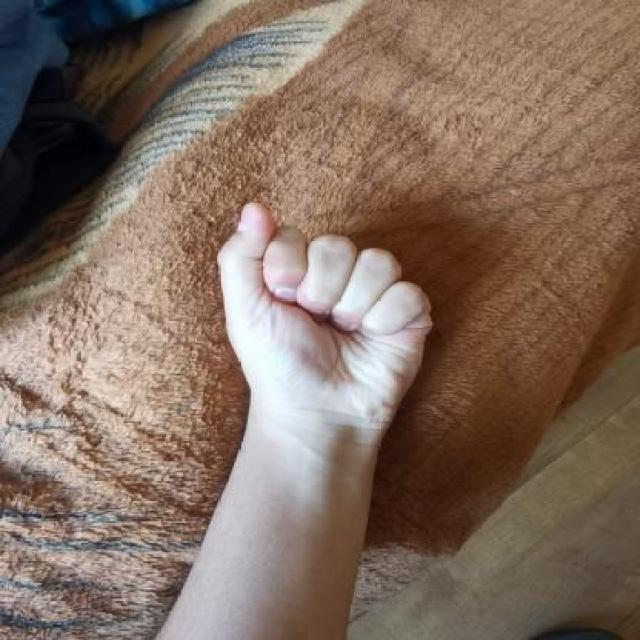A: (207, 192, 449, 428)
